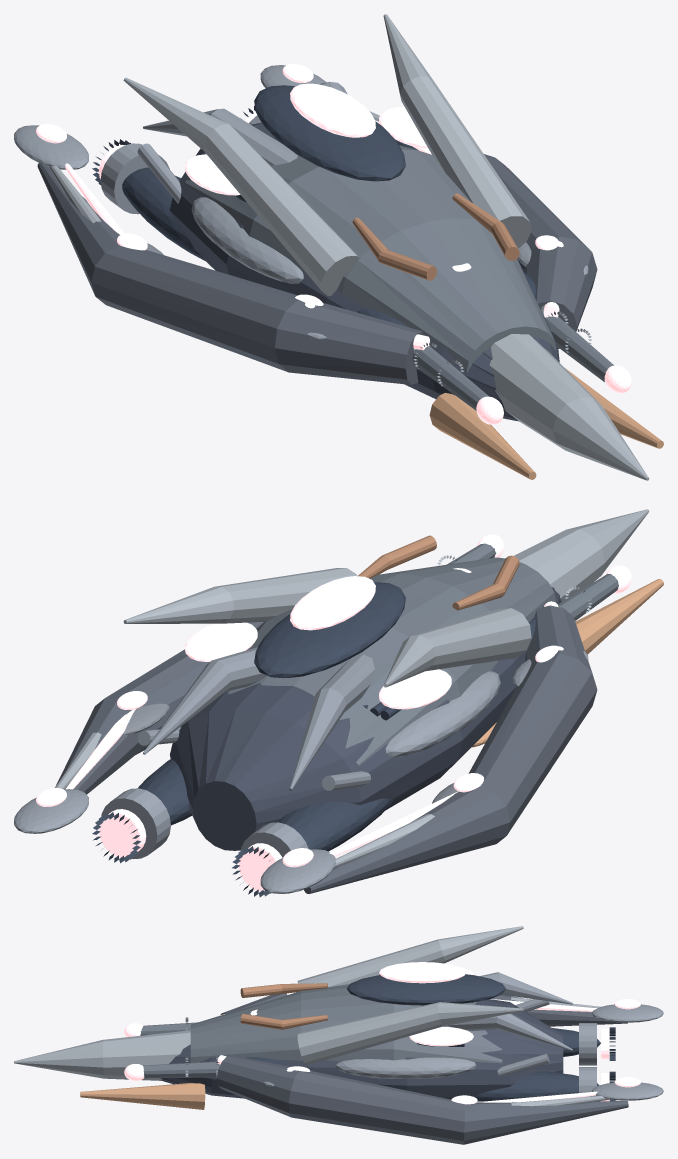
File: npc_bossSaimon.glb
The picture shows the model from 3 angles, top to bottom: view 1: azimuth 30°, elevation 25°; view 2: azimuth 150°, elevation 25°; view 3: azimuth 270°, elevation 25°; orthographic projection. The views are drawn at different scales.
Visible parts, largest first — view 1: upper_armor_scar, armored_scythe_-1, prime_arch_back_-1, zyron_stinger, prime_arch_back_1, prime_reactor_tower, armored_scythe_1, keel_pressure_hull, heavy_shield_pad_-1, prime_secondary_horn_-1, prime_emitter, engine_armor_-1 (+14 smaller); view 2: keel_pressure_hull, armored_scythe_-1, upper_armor_scar, prime_reactor_tower, prime_arch_back_-1, prime_arch_back_1, armored_scythe_1, zyron_stinger, zyron_upper_blade_-1, heavy_shield_pad_-1, zyron_upper_blade_1, engine_armor_-1 (+20 smaller); view 3: armored_scythe_1, upper_armor_scar, keel_pressure_hull, prime_arch_back_1, zyron_stinger, prime_reactor_tower, prime_arch_back_-1, heavy_shield_pad_1, prime_secondary_horn_1, engine_armor_1, prime_emitter, zyron_upper_blade_1 (+16 smaller).
Boxes of the visible parts, <box> form: upper_armor_scar: <box>184,140,556,372</box>; armored_scythe_-1: <box>37,163,422,384</box>; prime_arch_back_-1: <box>123,77,359,296</box>; zyron_stinger: <box>489,334,649,480</box>; prime_arch_back_1: <box>383,14,531,248</box>; prime_reactor_tower: <box>254,85,405,181</box>; armored_scythe_1: <box>484,154,597,348</box>; keel_pressure_hull: <box>170,122,559,421</box>; heavy_shield_pad_-1: <box>191,197,303,283</box>; prime_secondary_horn_-1: <box>429,393,536,479</box>; prime_emitter: <box>290,83,375,137</box>; engine_armor_-1: <box>122,167,206,261</box>; keel_pressure_hull: <box>170,587,561,850</box>; armored_scythe_-1: <box>304,605,597,893</box>; upper_armor_scar: <box>228,557,556,766</box>; prime_reactor_tower: <box>254,582,405,678</box>; prime_arch_back_-1: <box>383,608,531,687</box>; prime_arch_back_1: <box>123,568,357,623</box>; armored_scythe_1: <box>56,622,263,794</box>; zyron_stinger: <box>514,509,649,601</box>; zyron_upper_blade_-1: <box>289,654,374,790</box>; heavy_shield_pad_-1: <box>385,671,500,757</box>; zyron_upper_blade_1: <box>143,647,266,754</box>; engine_armor_-1: <box>277,798,394,851</box>; armored_scythe_1: <box>217,1055,628,1144</box>; upper_armor_scar: <box>190,984,502,1063</box>; keel_pressure_hull: <box>160,999,563,1099</box>; prime_arch_back_1: <box>297,1002,523,1065</box>; zyron_stinger: <box>14,1030,190,1080</box>; prime_reactor_tower: <box>346,974,505,1005</box>; prime_arch_back_-1: <box>297,926,523,986</box>; heavy_shield_pad_1: <box>336,1057,476,1078</box>; prime_secondary_horn_1: <box>80,1083,205,1109</box>; engine_armor_1: <box>475,1071,599,1101</box>; prime_emitter: <box>379,962,466,983</box>; zyron_upper_blade_1: <box>447,1013,572,1050</box>.
Size of the model in its own units: 2.82 by 1.29 by 5.85.
